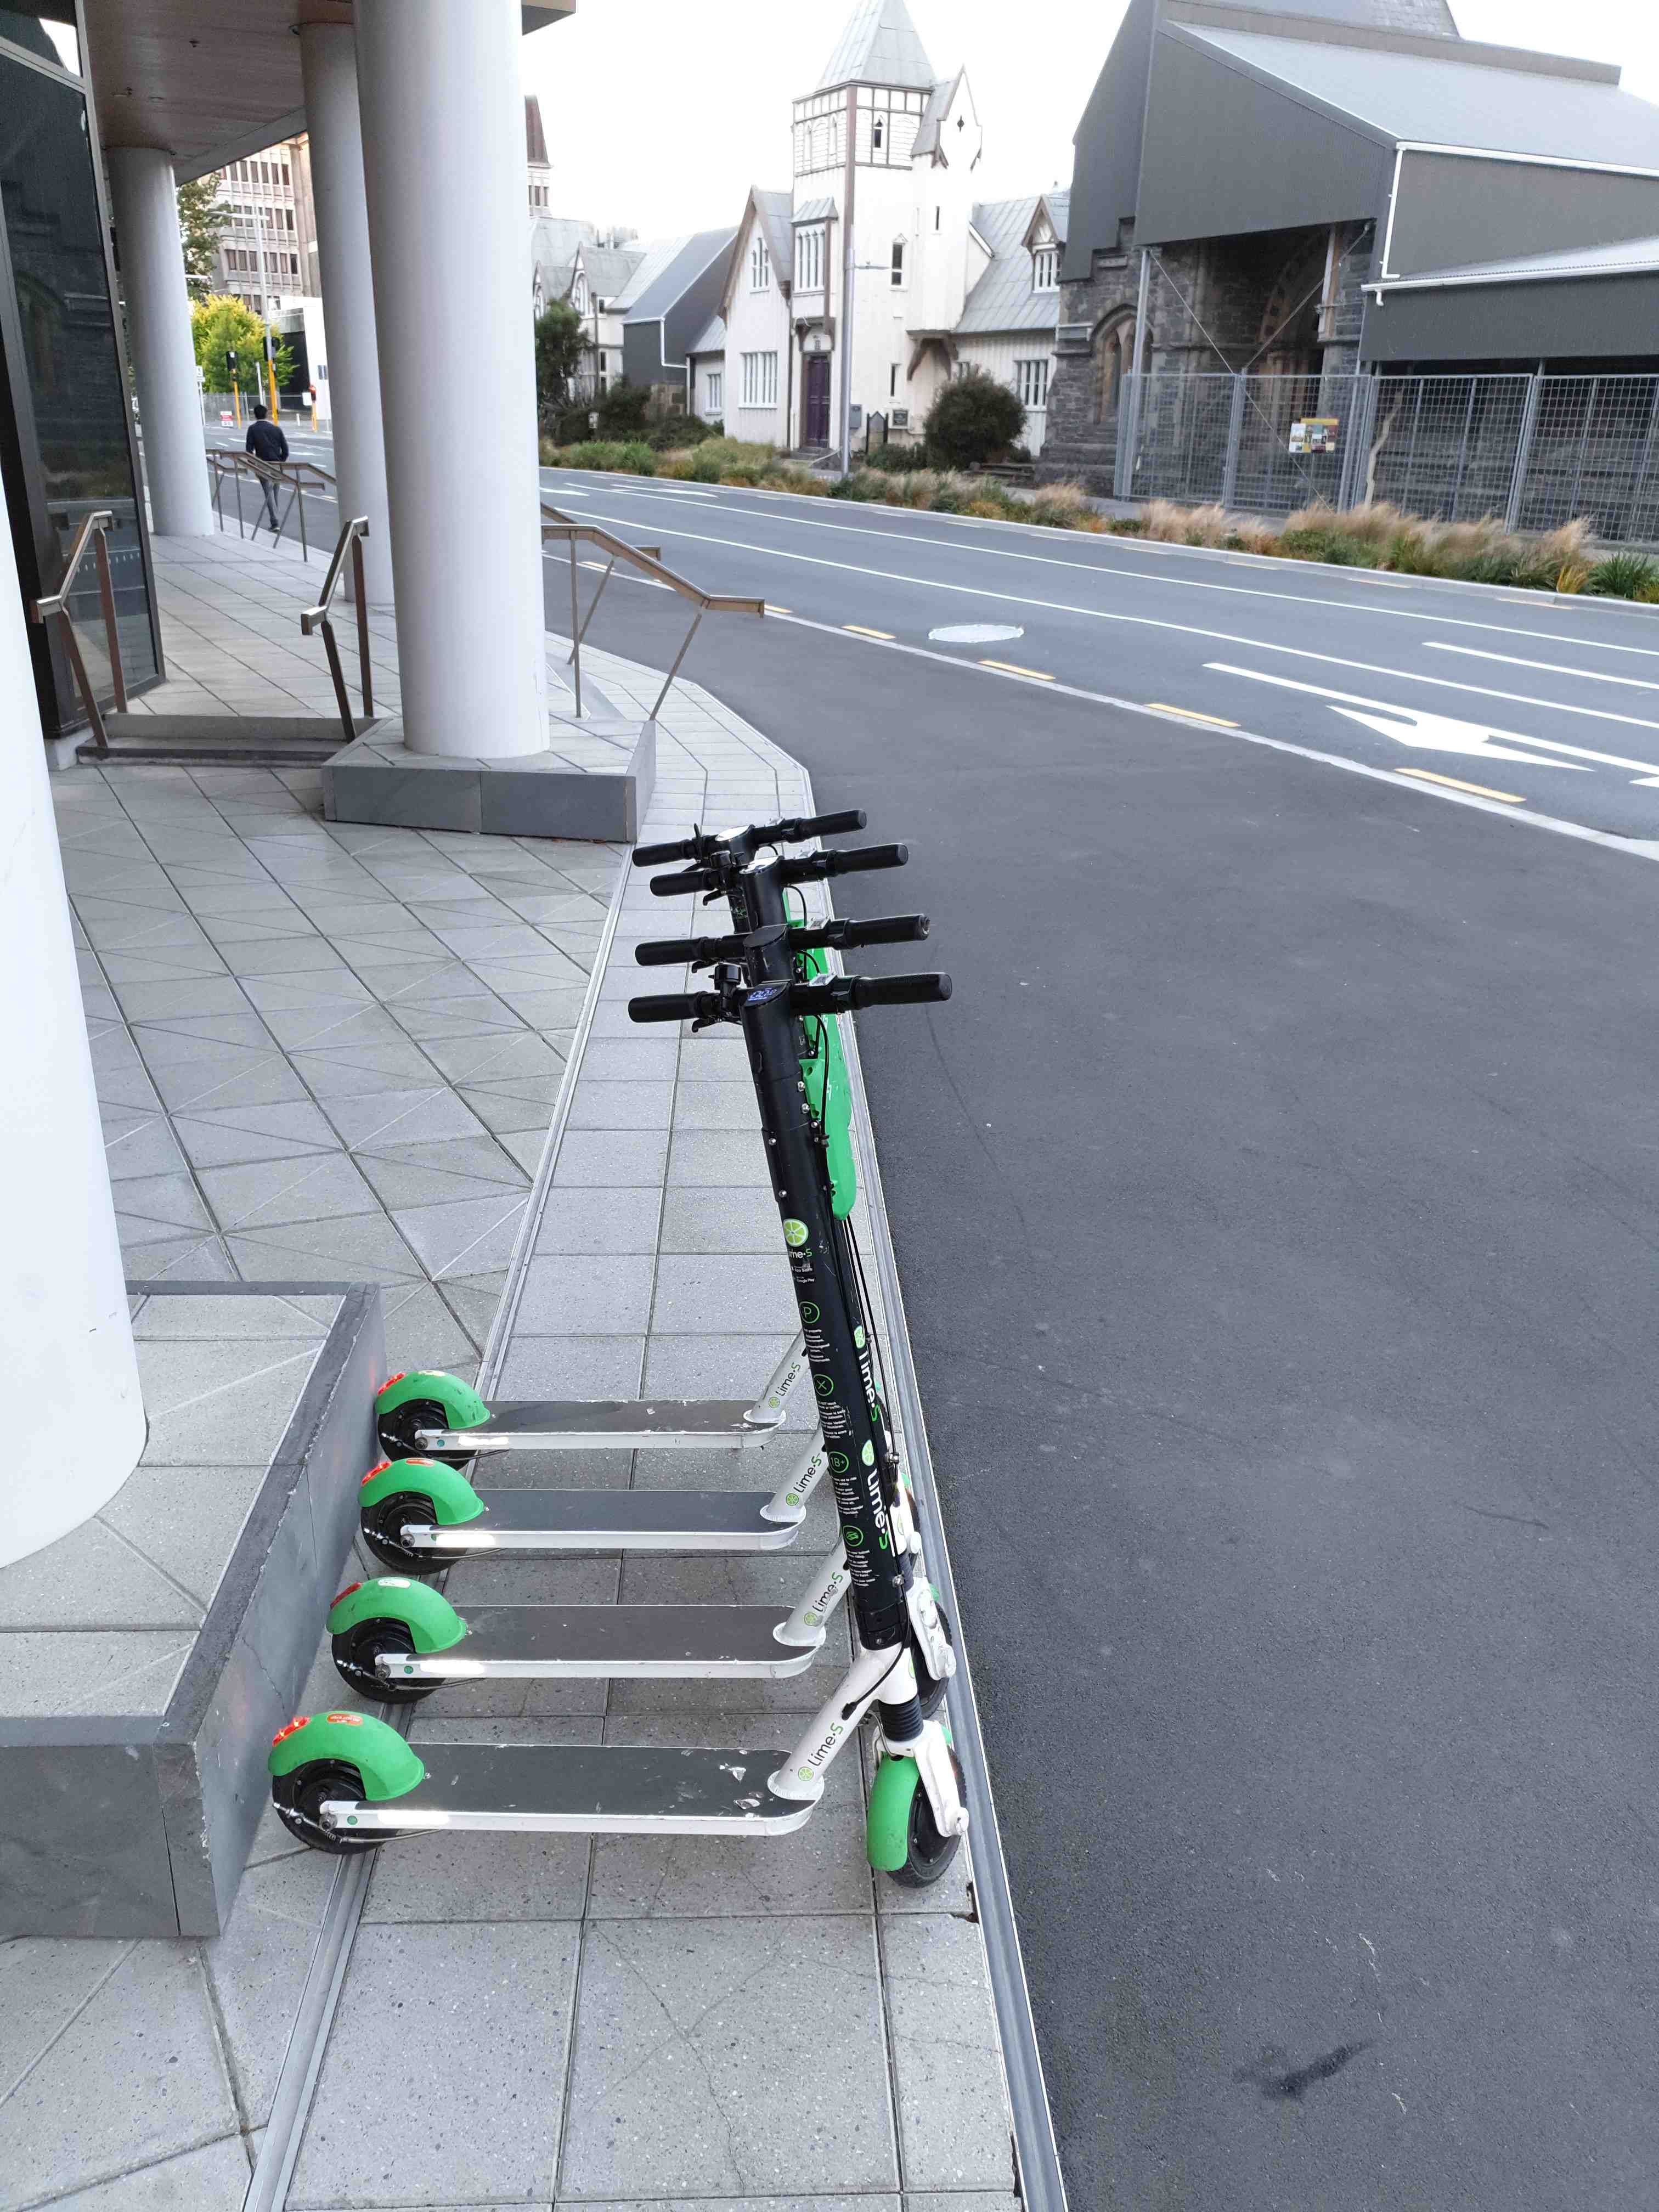too close: (809, 1716, 1061, 1925)
